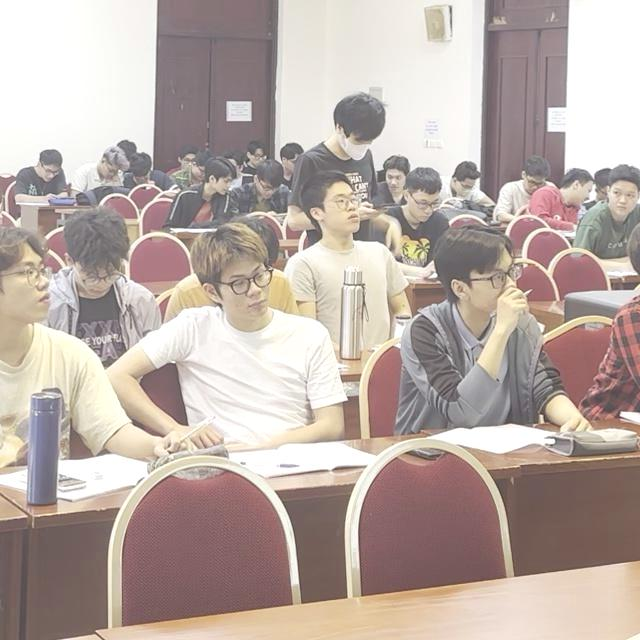Looking away: (74, 266, 123, 296), (612, 183, 635, 214), (415, 193, 437, 221), (571, 183, 592, 208), (387, 171, 404, 193), (214, 175, 230, 196), (44, 164, 56, 182)
Looking forward: (225, 267, 271, 315), (473, 264, 519, 309), (12, 260, 49, 315), (328, 190, 362, 228)
